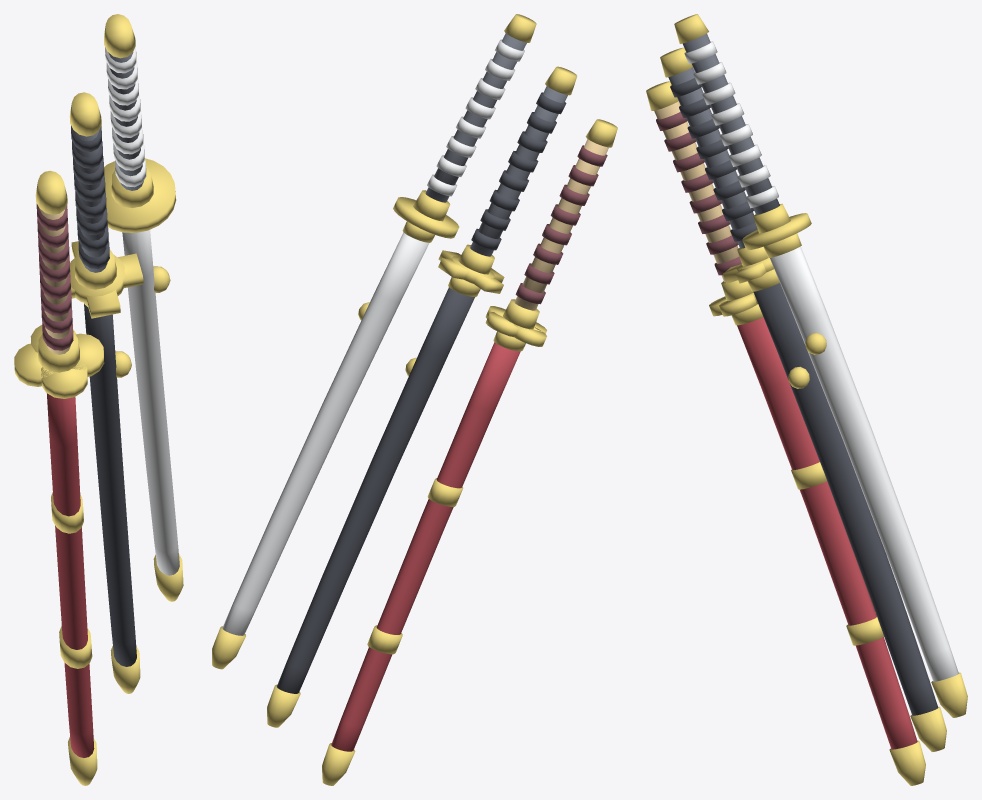
The model's file is Zoro_Katanas_v2.fbx.
3 views of the same model, side by side, from view 1: azimuth 30°, elevation 25°; view 2: azimuth 150°, elevation 25°; view 3: azimuth 270°, elevation 25° (orthographic). The views are drawn at different scales.
Visible parts, largest first — view 1: Zoro_GoldHardware, Zoro_YubashiriBlk, Zoro_WadoWhite, Zoro_SandaiRed, Zoro_SandaiIto, Zoro_DarkSamegawa, Zoro_TanSamegawa; view 2: Zoro_WadoWhite, Zoro_YubashiriBlk, Zoro_GoldHardware, Zoro_SandaiRed, Zoro_DarkSamegawa, Zoro_SandaiIto, Zoro_TanSamegawa; view 3: Zoro_WadoWhite, Zoro_YubashiriBlk, Zoro_GoldHardware, Zoro_SandaiRed, Zoro_DarkSamegawa, Zoro_SandaiIto, Zoro_TanSamegawa.
Part boxes in pixels (bbox=[...]): Zoro_GoldHardware: bbox=[14, 14, 183, 785]; Zoro_YubashiriBlk: bbox=[71, 125, 136, 666]; Zoro_WadoWhite: bbox=[105, 47, 179, 575]; Zoro_SandaiRed: bbox=[47, 393, 94, 757]; Zoro_SandaiIto: bbox=[36, 203, 73, 350]; Zoro_DarkSamegawa: bbox=[74, 52, 143, 272]; Zoro_TanSamegawa: bbox=[39, 209, 70, 354]; Zoro_WadoWhite: bbox=[222, 39, 524, 635]; Zoro_YubashiriBlk: bbox=[277, 92, 566, 693]; Zoro_GoldHardware: bbox=[212, 14, 617, 785]; Zoro_SandaiRed: bbox=[331, 342, 520, 751]; Zoro_DarkSamegawa: bbox=[425, 33, 567, 256]; Zoro_SandaiIto: bbox=[515, 145, 607, 304]; Zoro_TanSamegawa: bbox=[514, 139, 608, 310]; Zoro_WadoWhite: bbox=[684, 41, 958, 681]; Zoro_YubashiriBlk: bbox=[670, 78, 938, 715]; Zoro_GoldHardware: bbox=[646, 14, 967, 785]; Zoro_SandaiRed: bbox=[737, 317, 917, 749]; Zoro_DarkSamegawa: bbox=[668, 33, 779, 248]; Zoro_SandaiIto: bbox=[656, 112, 741, 275]; Zoro_TanSamegawa: bbox=[654, 101, 739, 282].
Size of the model in its own units: 1.49 by 3.93 by 1.57.
